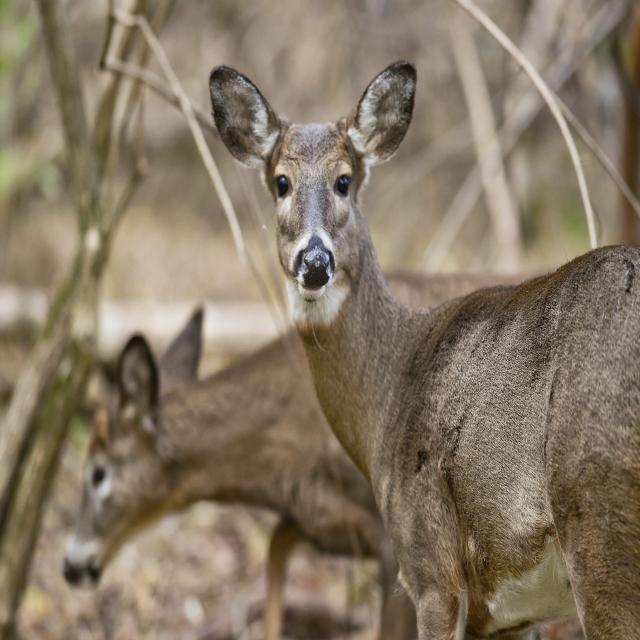deer: (209, 62, 640, 638), (63, 308, 417, 640)
